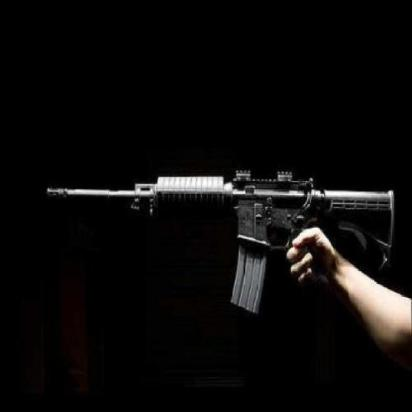Gun: (40, 147, 392, 344)
